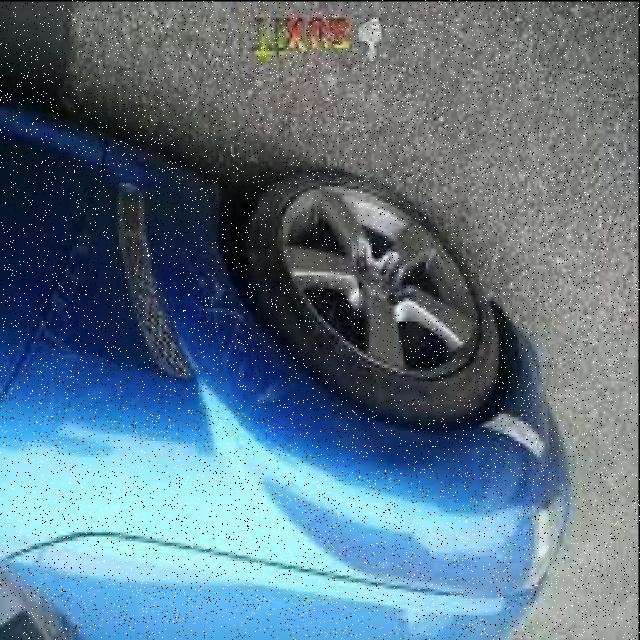damage: (187, 220, 317, 414), (35, 210, 109, 362)
